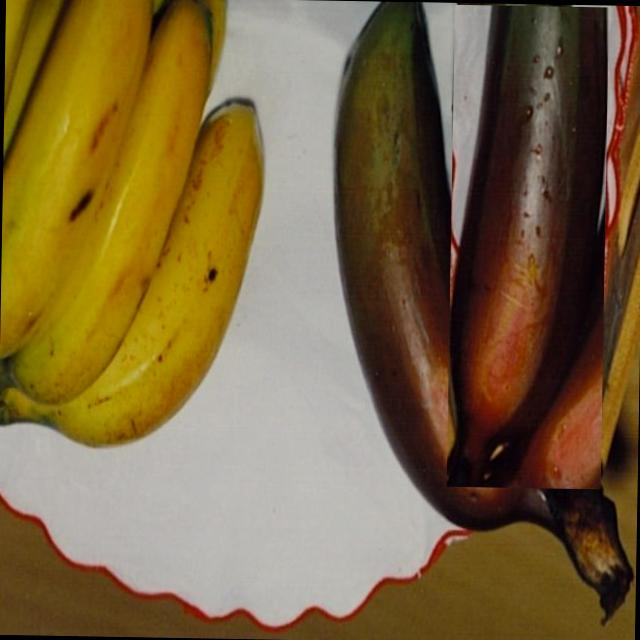Banana: (327, 1, 640, 620), (0, 0, 270, 435)
